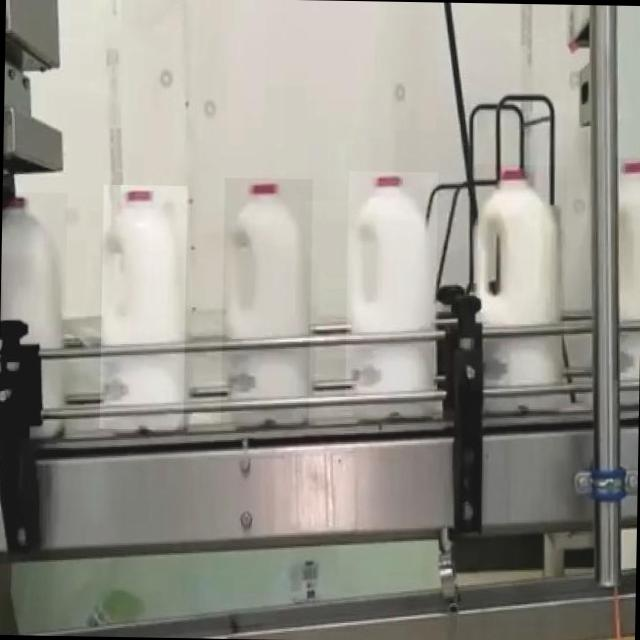red: (91, 184, 187, 448), (220, 172, 316, 413), (342, 170, 440, 404), (472, 158, 565, 401), (0, 189, 74, 433), (606, 160, 640, 406)
